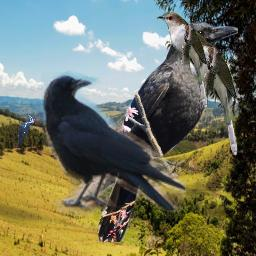Crow: (75, 21, 238, 242), (41, 69, 186, 217)
Cuckoo: (170, 30, 238, 156), (156, 12, 208, 108)
Woodpecker: (17, 112, 38, 149)
